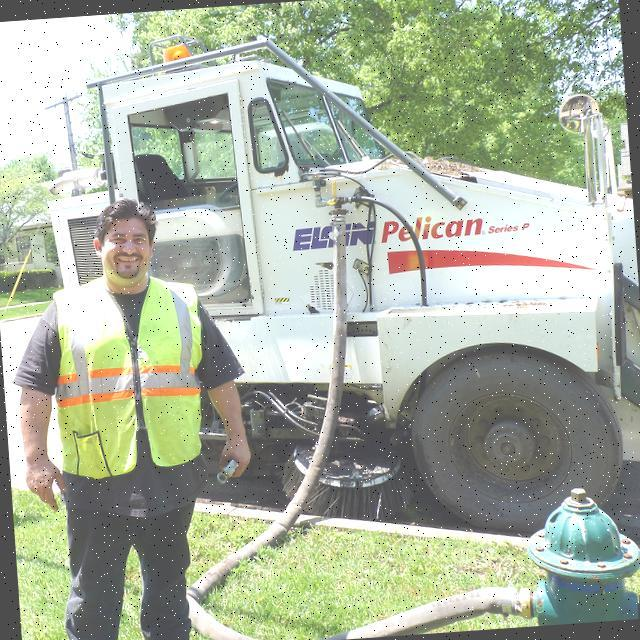fire_hydrant: (509, 482, 640, 627)
